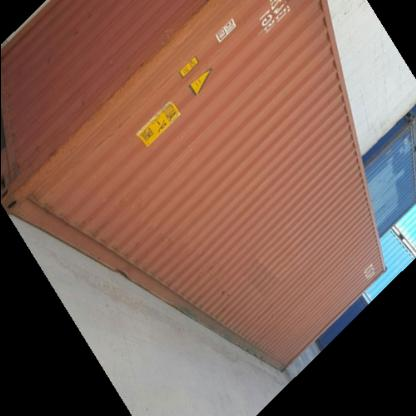Damage: (23, 90, 133, 192), (127, 1, 212, 85)
